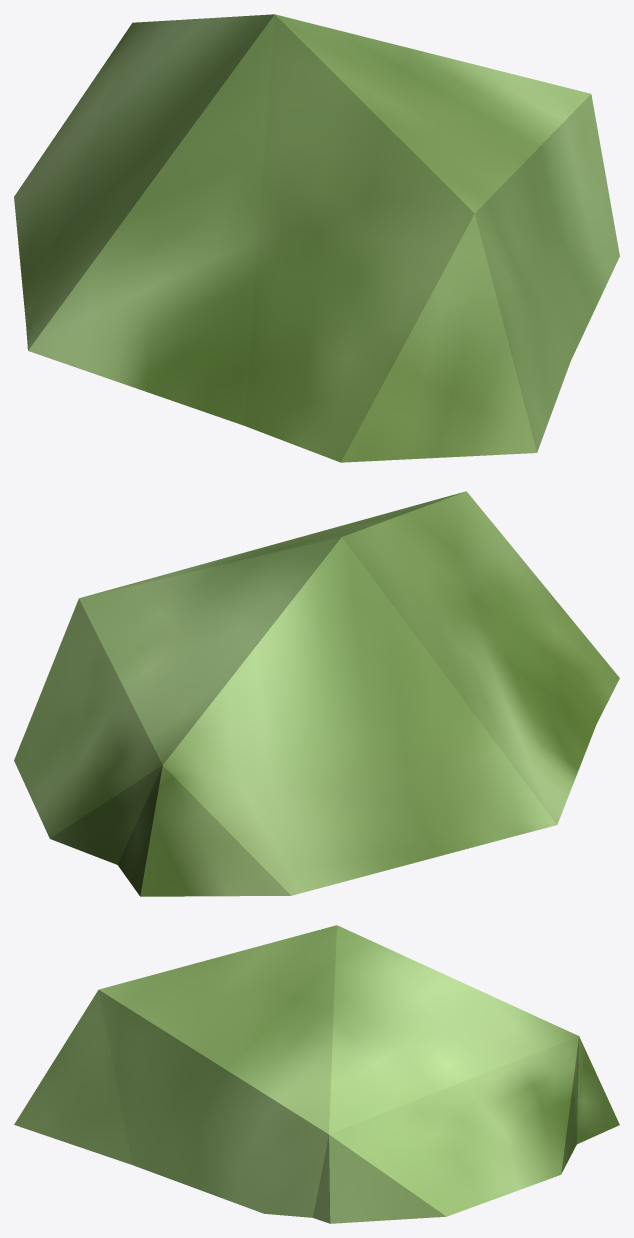
The picture shows the model from 3 angles, top to bottom: view 1: azimuth 30°, elevation 25°; view 2: azimuth 150°, elevation 25°; view 3: azimuth 270°, elevation 25°; orthographic projection. The views are drawn at different scales.
Size of the model in its own units: 0.1666 by 0.0767 by 0.2216.
Materials: 1 (1 with a texture image).
